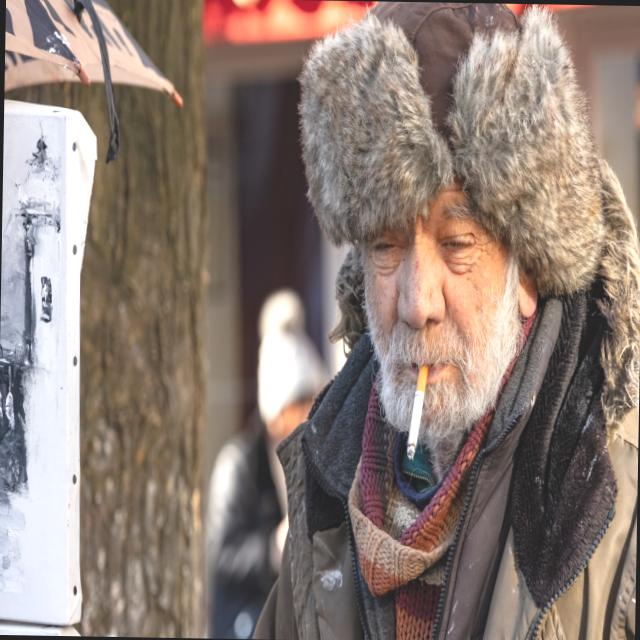smoke: (406, 361, 430, 467)
